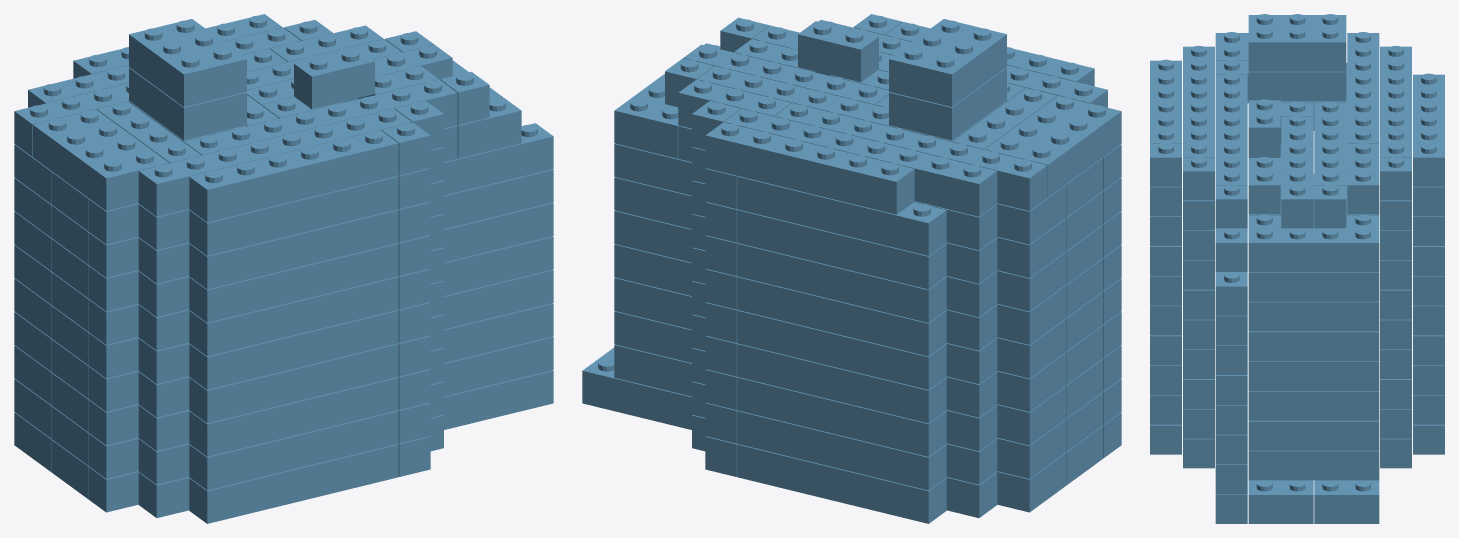
File: 123_camera_L3.glb
The picture shows the model from 3 angles, left to right: view 1: azimuth 30°, elevation 25°; view 2: azimuth 150°, elevation 25°; view 3: azimuth 270°, elevation 25°; orthographic projection. The views are drawn at different scales.
Bounding box in the file's own units: 13.98 × 12.13 × 8.98.
